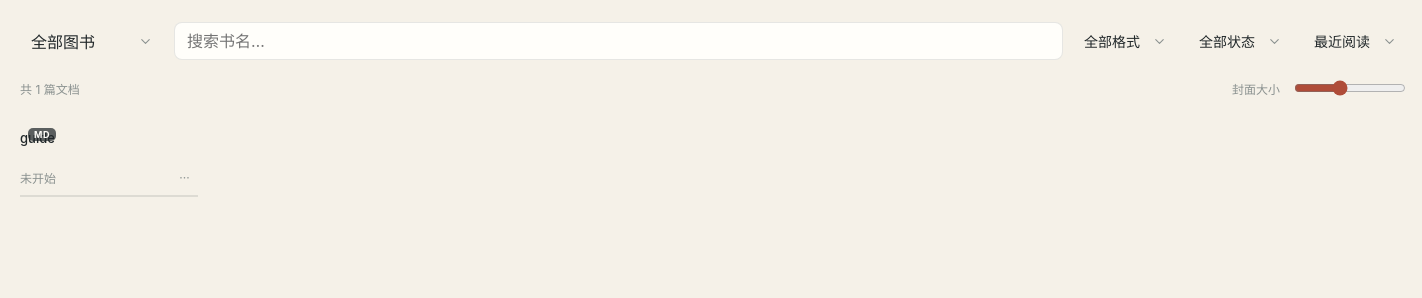
BookshelfView (library browser) › switches shelves and opens shelf management from the scope menu
Click the button with aria-label "书库范围：全部图书". click: click(92, 41)
box: [20, 20, 164, 62]
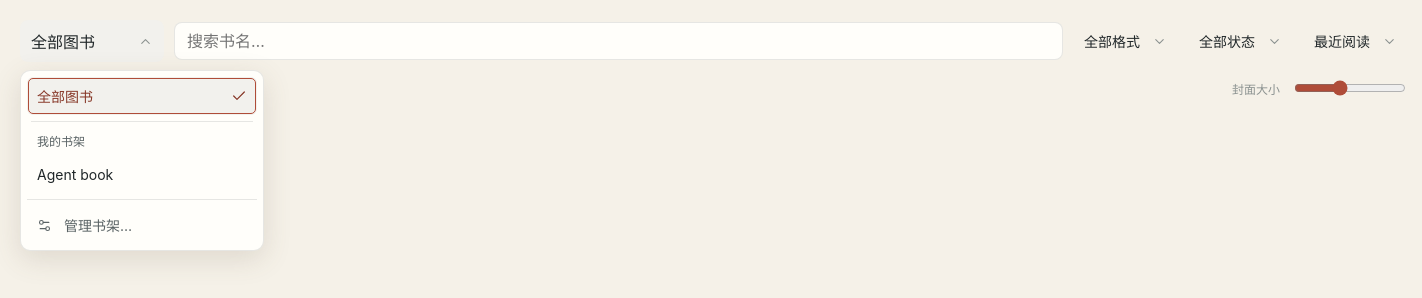
Click the menu item "Agent book". click: click(142, 174)
box: [27, 155, 257, 193]
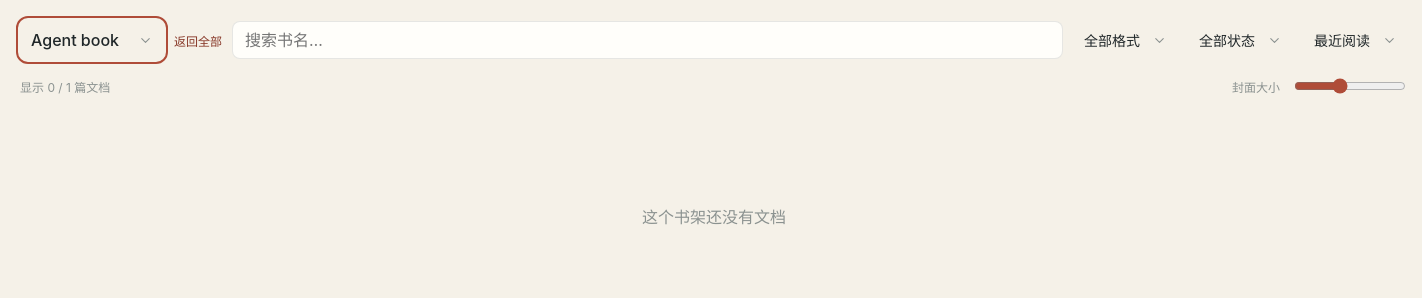
Result: the button "返回全部" is shown at [174, 26, 222, 54]
Click the button with aria-label "书库范围：Agent book". click: click(92, 40)
box: [20, 20, 164, 60]
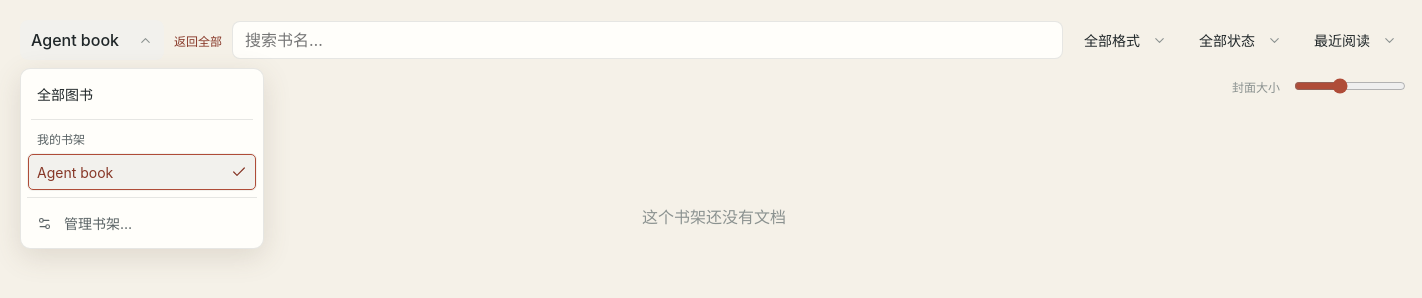
Click the menu item "管理书架…". click: click(142, 223)
box: [27, 204, 257, 242]
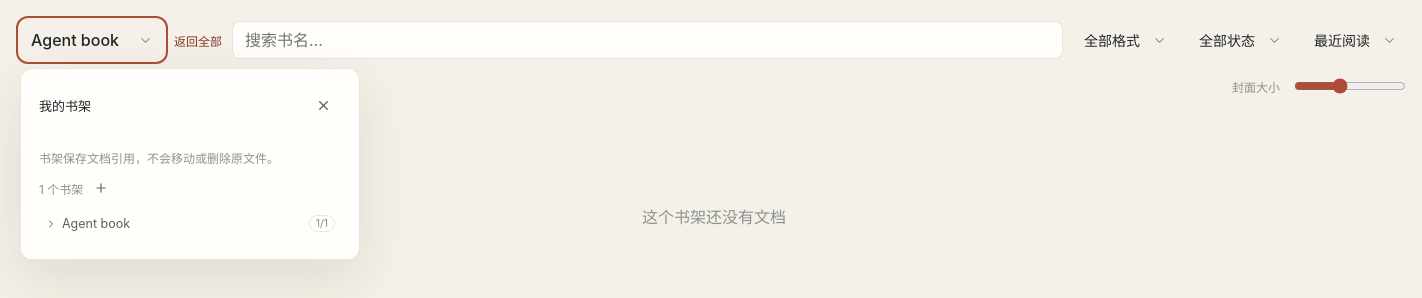
Result: the menu is gone
